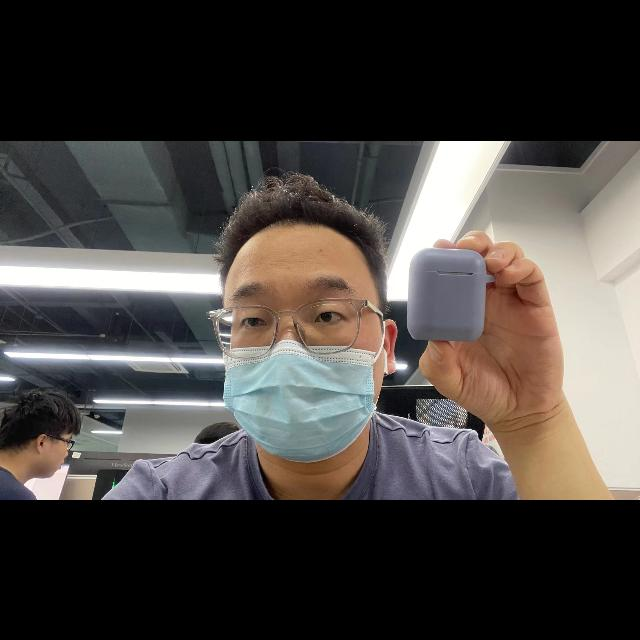airpods: (407, 249, 496, 341)
